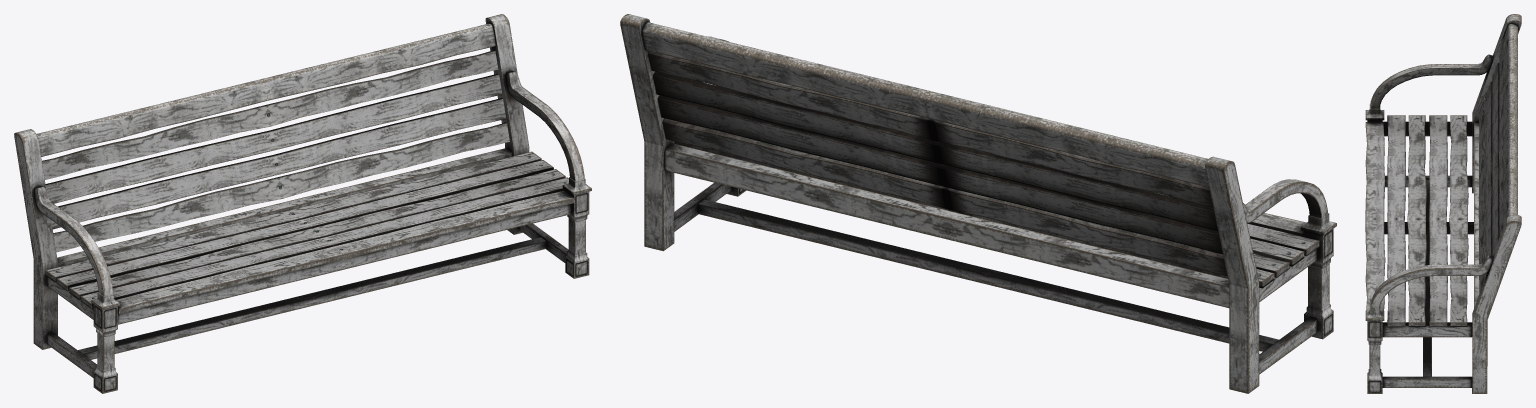
3 views of the same model, side by side, from view 1: azimuth 30°, elevation 25°; view 2: azimuth 150°, elevation 25°; view 3: azimuth 270°, elevation 25° (orthographic). The views are drawn at different scales.
Parts seen in each view (by area): view 1: Object_2; view 2: Object_2; view 3: Object_2.
Part boxes in pixels (box(x1,y1,x2,y2)): Object_2: box(14, 14, 591, 393); Object_2: box(620, 14, 1336, 393); Object_2: box(1365, 14, 1521, 393).
Size of the model in its own units: 16.35 by 6.32 by 5.18.
1 material, 1 textured.
